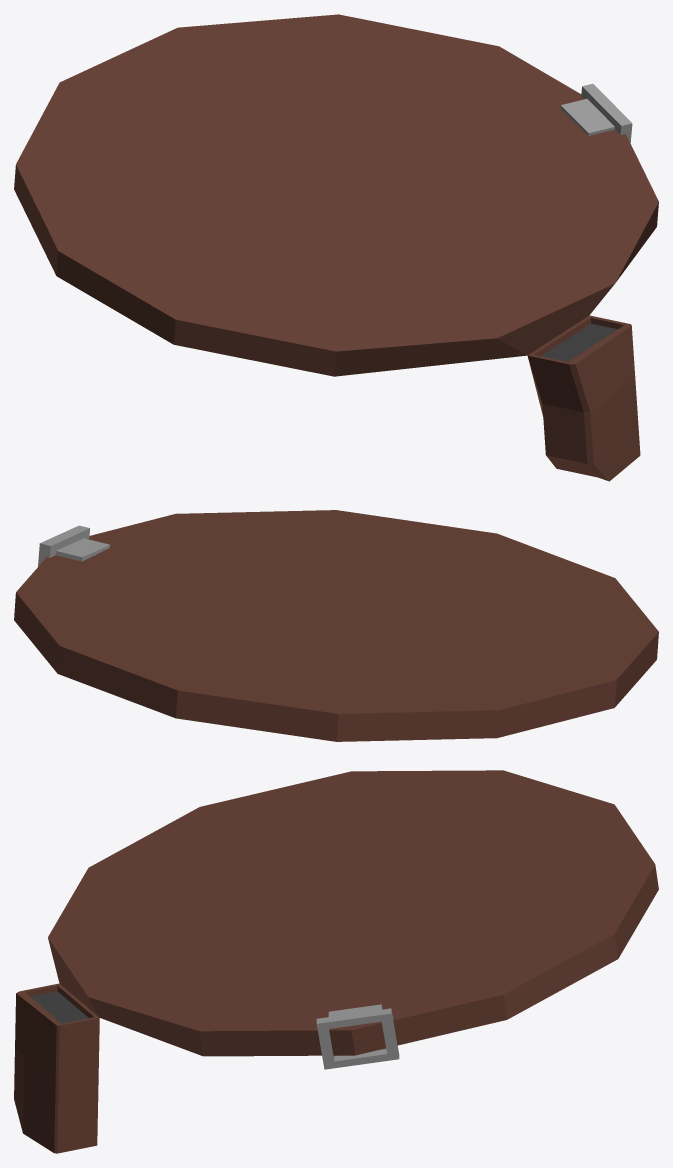
Rendered from Holster.fbx.
3 renders of one model, top to bottom at view 1: azimuth 30°, elevation 25°; view 2: azimuth 150°, elevation 25°; view 3: azimuth 270°, elevation 25°, orthographic. The views are drawn at different scales.
Visible parts, largest first — view 1: HolsterBelt, BeltBuckle, Holster inside; view 2: HolsterBelt, BeltBuckle; view 3: HolsterBelt, BeltBuckle, Holster inside.
Part boxes in pixels (left/top/right/bottom): HolsterBelt: left=14, top=14, right=658, bottom=481; BeltBuckle: left=560, top=83, right=632, bottom=142; Holster inside: left=541, top=323, right=617, bottom=361; HolsterBelt: left=14, top=510, right=658, bottom=741; BeltBuckle: left=38, top=525, right=110, bottom=566; HolsterBelt: left=14, top=770, right=658, bottom=1153; BeltBuckle: left=316, top=1004, right=399, bottom=1069; Holster inside: left=30, top=991, right=88, bottom=1023.
Size of the model in its own units: 247 by 100 by 260.
1 material, 1 textured.
